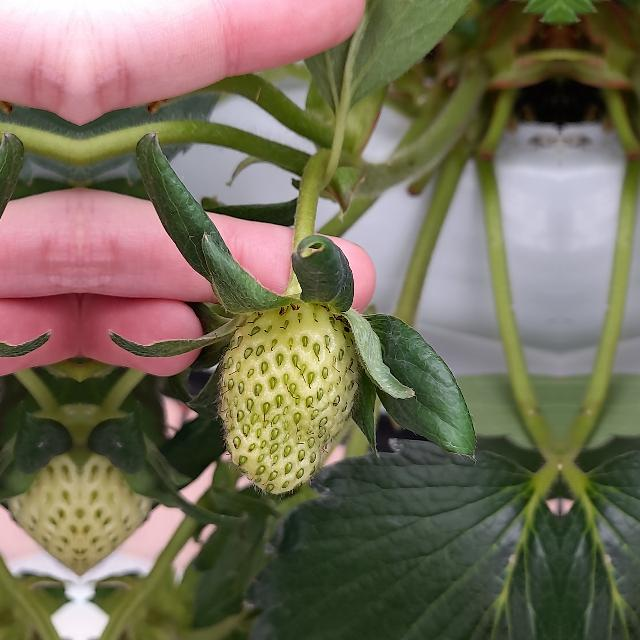Health_25: (219, 304, 359, 492)
